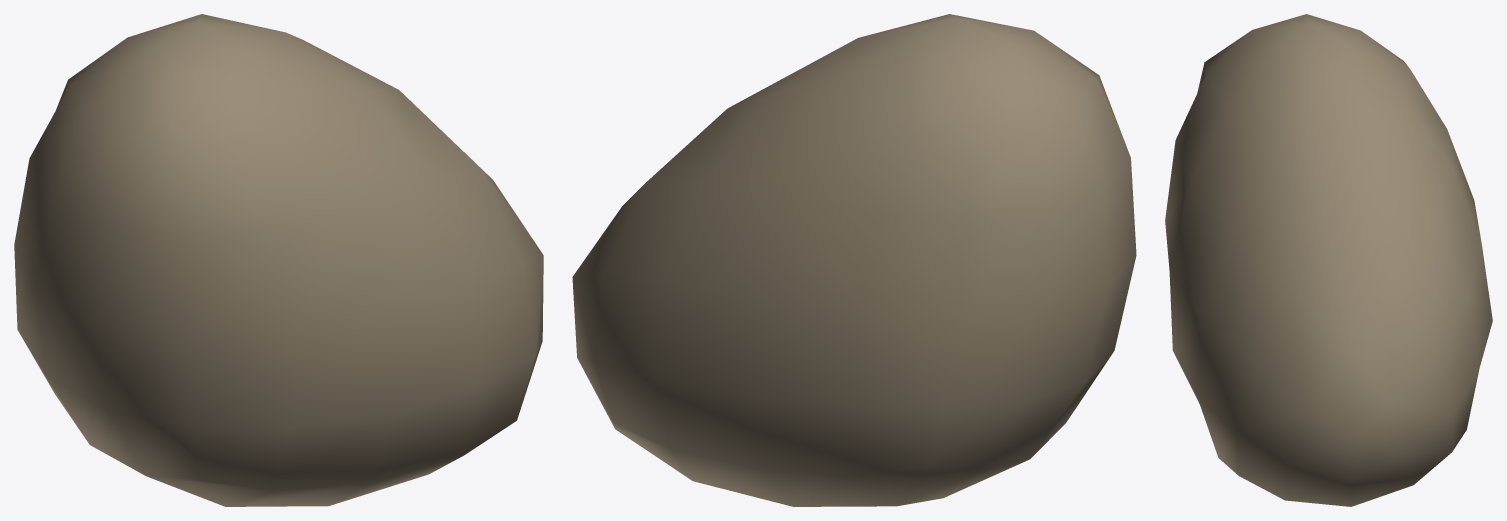
File: rock03.fbx
3 views of the same model, side by side, from view 1: azimuth 30°, elevation 25°; view 2: azimuth 150°, elevation 25°; view 3: azimuth 270°, elevation 25° (orthographic). The views are drawn at different scales.
Parts seen in each view (by area): view 1: rock.001; view 2: rock.001; view 3: rock.001.
Boxes of the visible parts, left/top/right/bottom form: rock.001: left=14, top=14, right=543, bottom=506; rock.001: left=572, top=14, right=1136, bottom=506; rock.001: left=1165, top=14, right=1492, bottom=506.
Size of the model in its own units: 0.5577 by 0.5135 by 0.3812.
